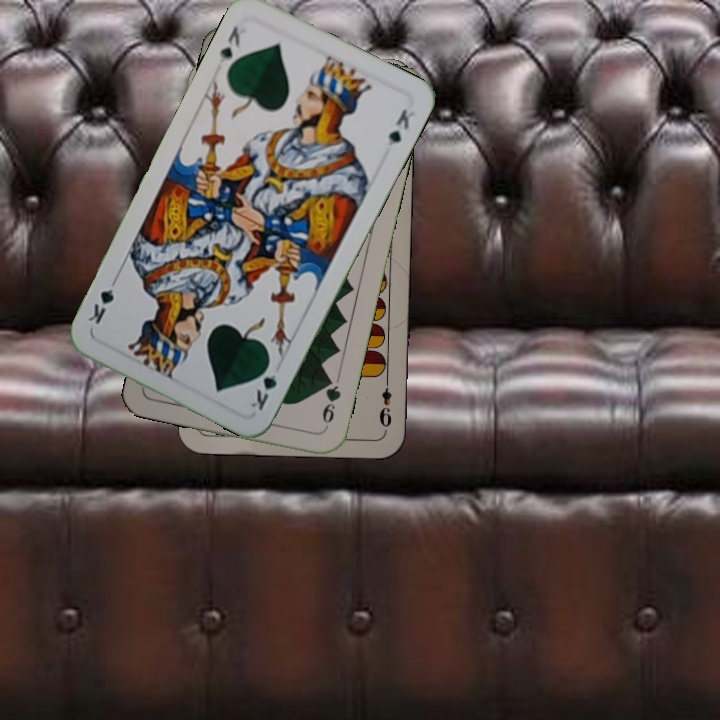E9: (375, 374, 395, 433)
G9: (318, 372, 344, 433)
GK: (246, 356, 281, 414), (215, 22, 243, 67)
